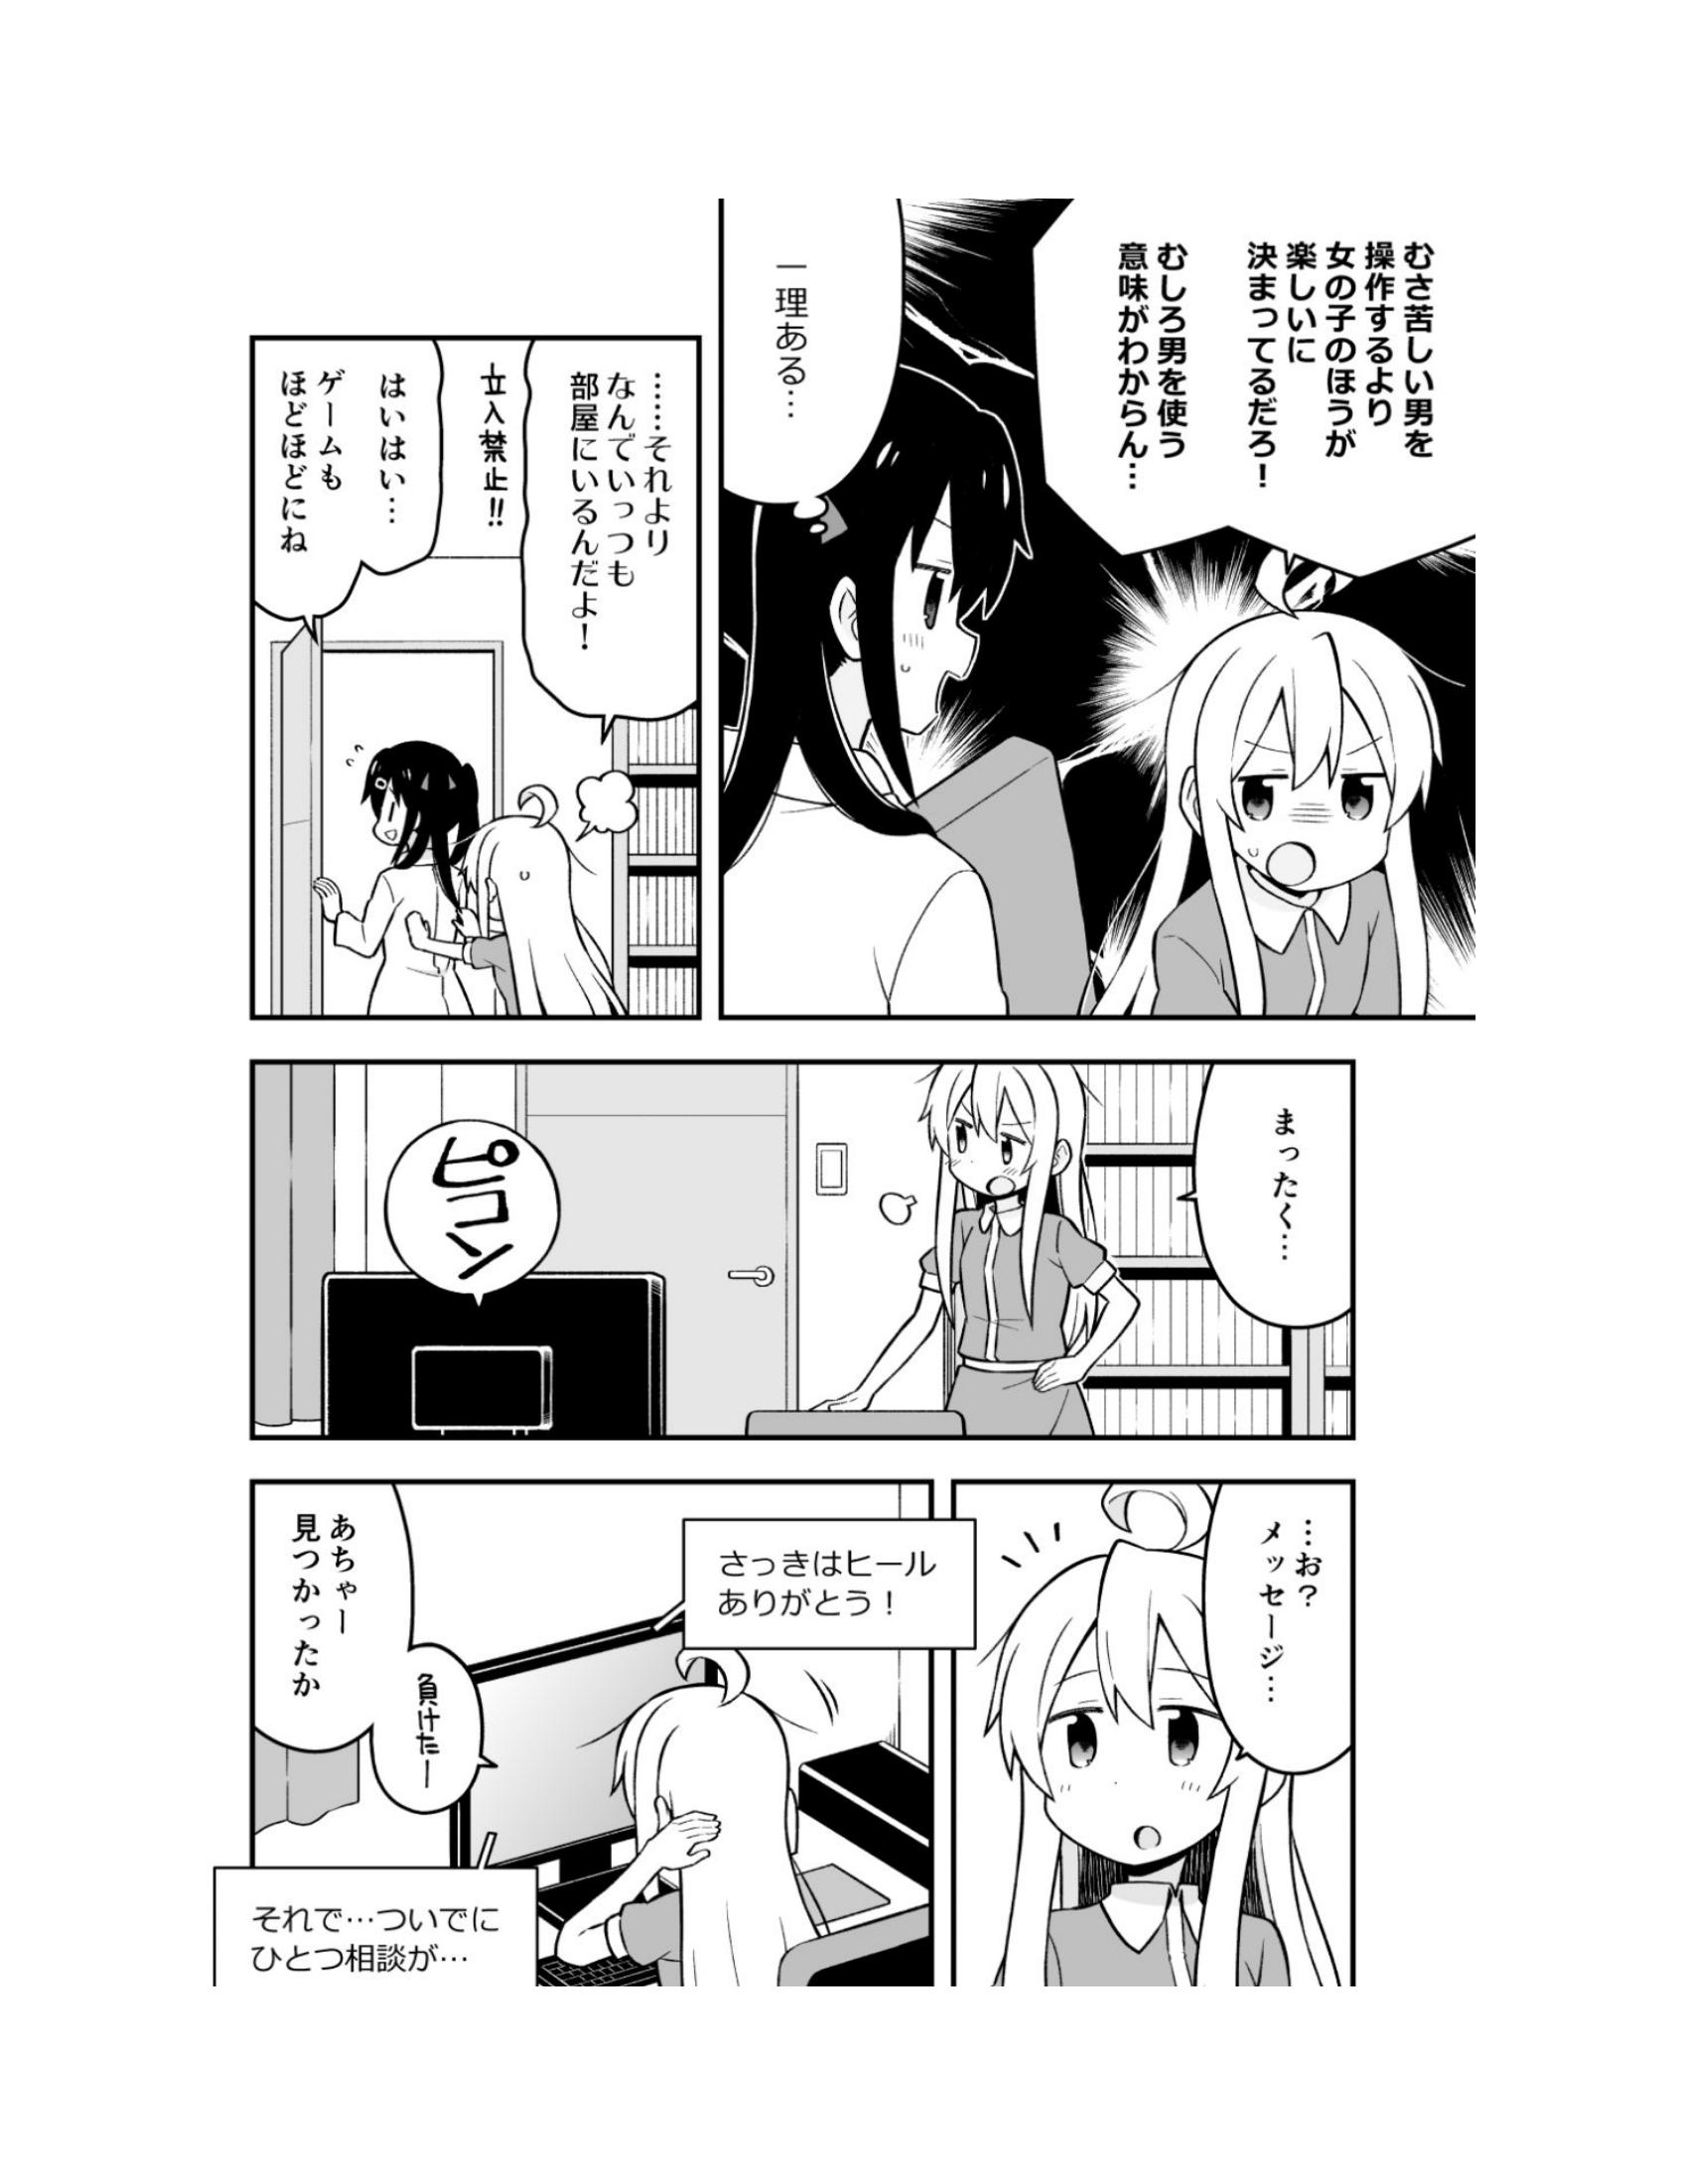a: (1021, 191, 1520, 596), (486, 333, 722, 737), (261, 1480, 500, 1824), (736, 117, 920, 521), (193, 1844, 574, 2019), (1193, 1026, 1392, 1330), (661, 1494, 1005, 1666), (1174, 1454, 1339, 1806), (245, 330, 443, 619)
